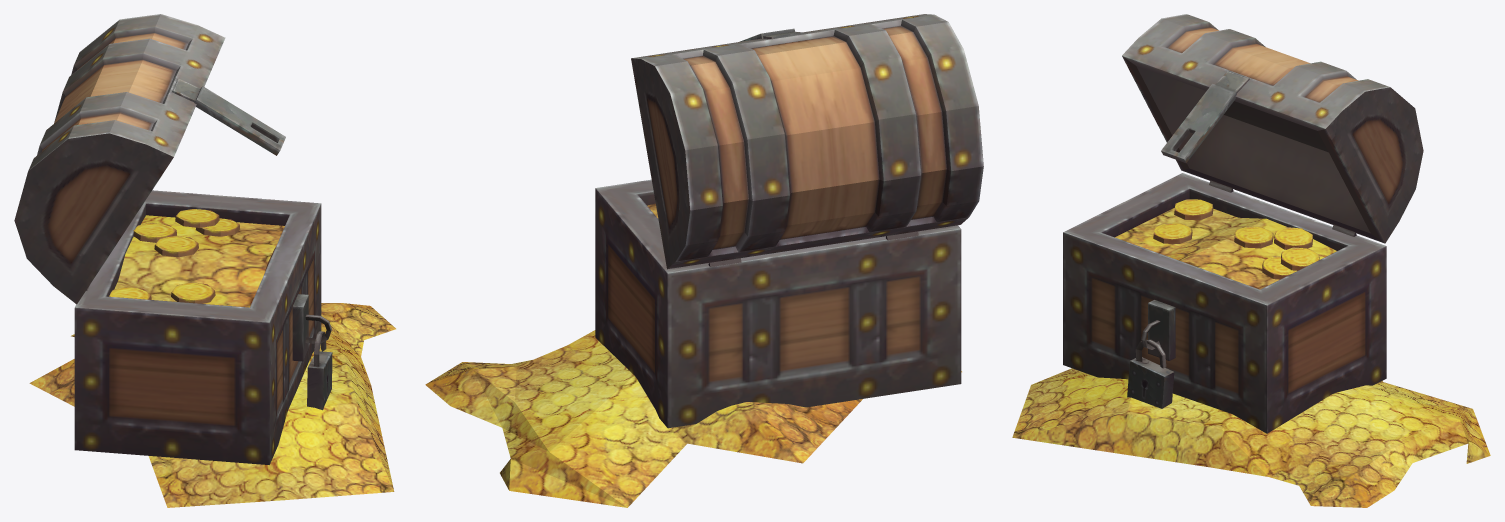
Rendered from Area_06_27.fbx.
3 views of the same model, side by side, from view 1: azimuth 30°, elevation 25°; view 2: azimuth 150°, elevation 25°; view 3: azimuth 270°, elevation 25° (orthographic). The views are drawn at different scales.
Parts seen in each view (by area): view 1: Area_06_27; view 2: Area_06_27; view 3: Area_06_27.
Boxes of the visible parts, x1,y1,x2,y2 form: Area_06_27: (14, 14, 395, 507); Area_06_27: (425, 14, 983, 507); Area_06_27: (1012, 14, 1490, 507).
Bounding box in the file's own units: 277 × 218 × 283.
